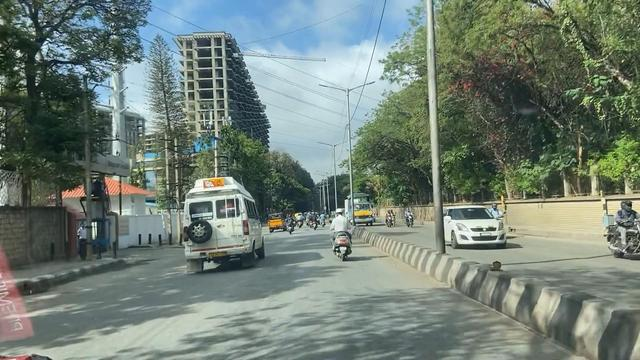HMV: (164, 166, 266, 268)
LMV: (328, 210, 358, 267)
